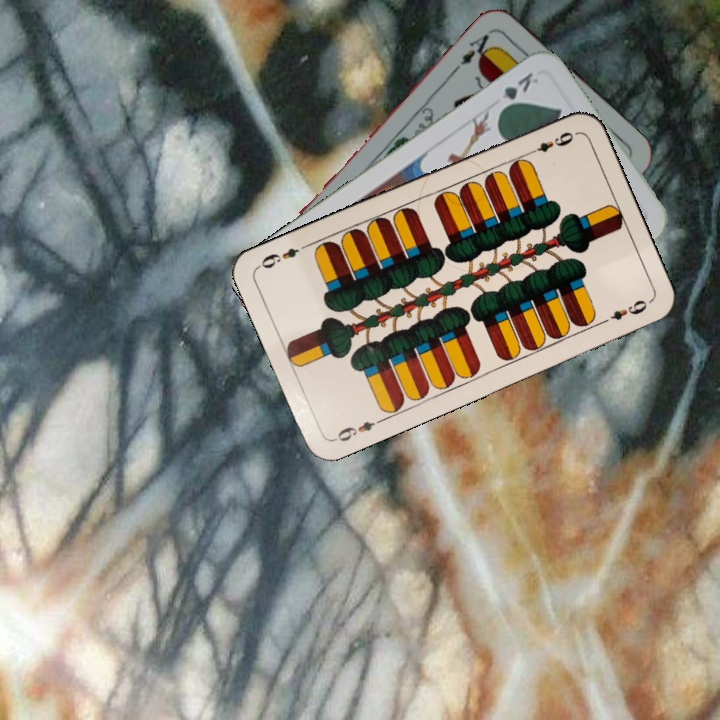E9: (523, 127, 579, 159), (329, 414, 386, 444)
EA: (450, 26, 497, 74)
GK: (495, 68, 541, 115)
